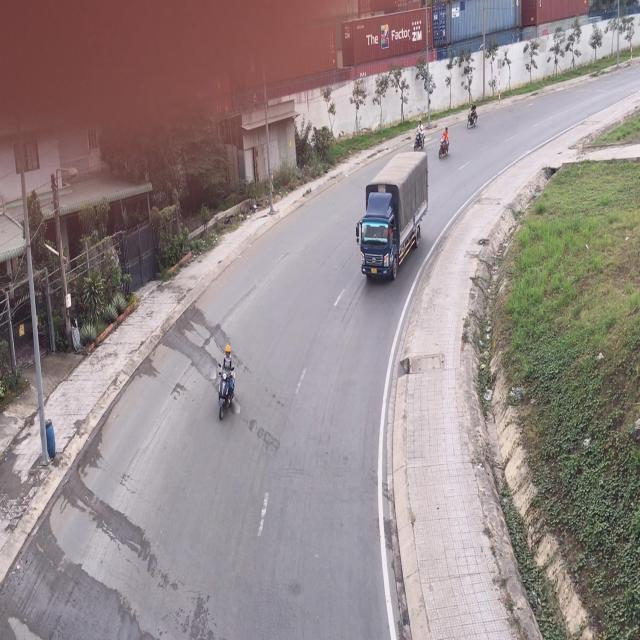motorbike: (214, 340, 237, 420), (438, 124, 452, 162), (466, 94, 478, 129), (415, 124, 426, 153)
truck: (355, 149, 425, 281)
